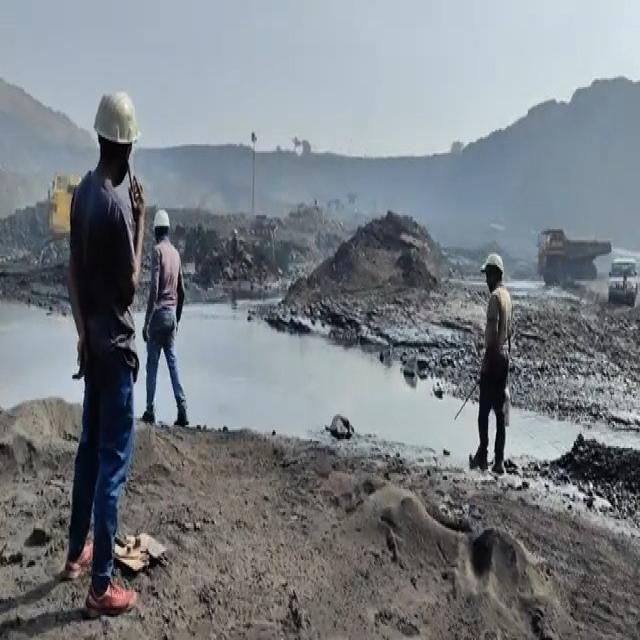light_vehicle: (608, 257, 638, 305)
